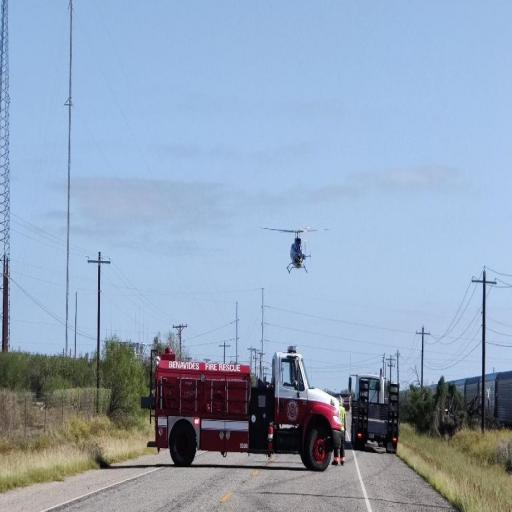helicopter: (258, 224, 332, 276)
